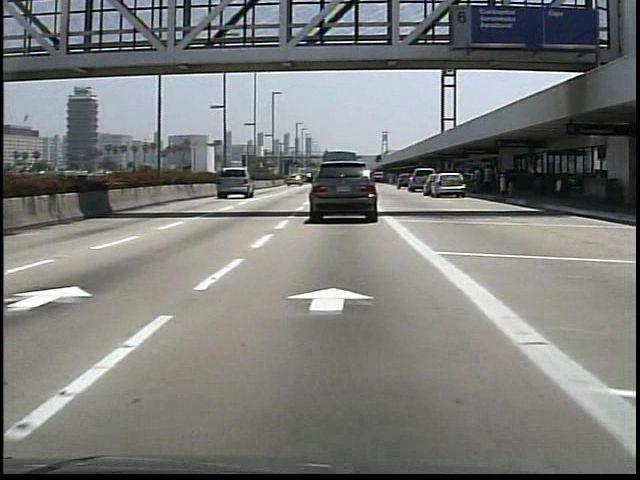person: (480, 160, 496, 197), (465, 164, 482, 197)
